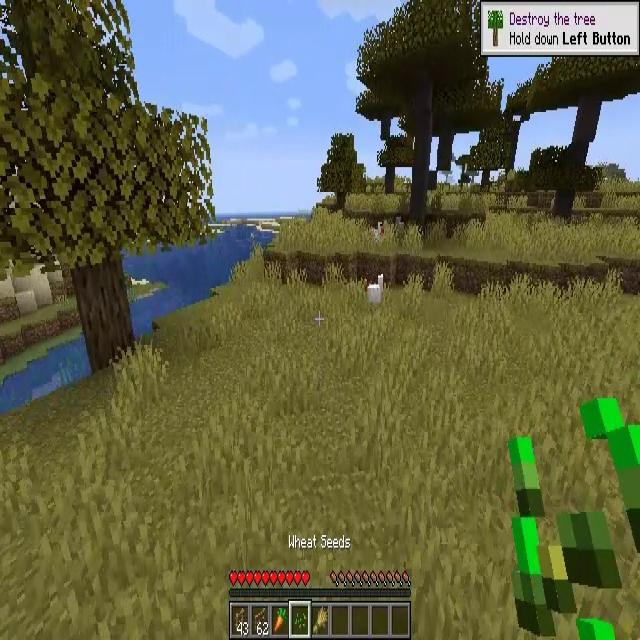duck: (367, 274, 383, 307), (371, 221, 384, 240)
